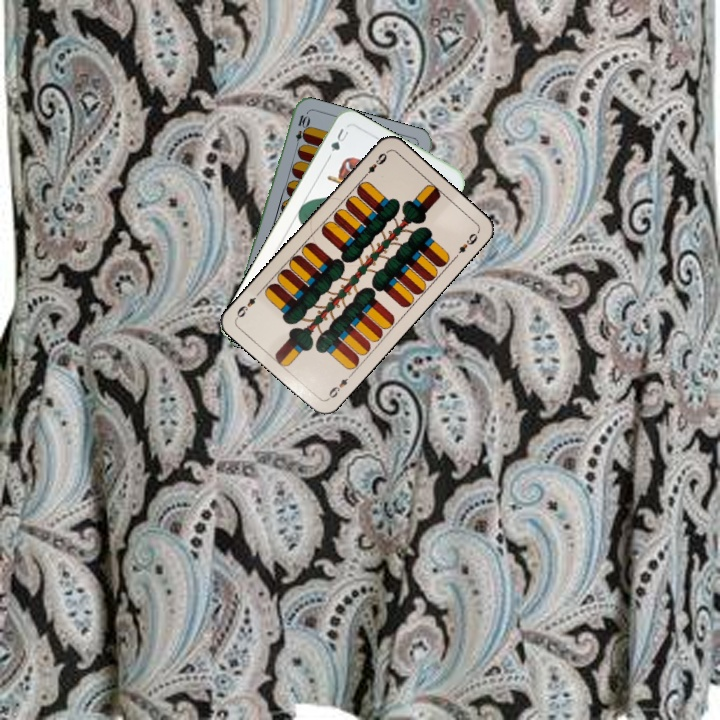E10: (291, 111, 311, 151)
E9: (359, 148, 391, 181), (324, 369, 355, 402)
GU: (327, 124, 351, 155)
